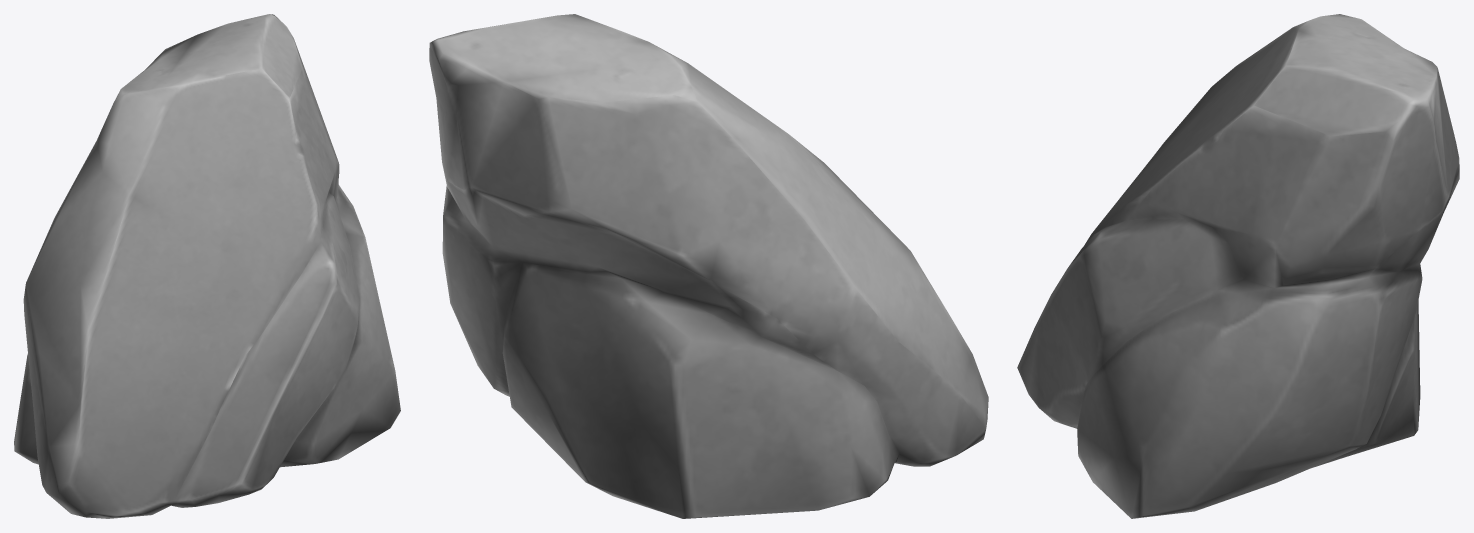
The model's file is SM_Rocks_04.obj.
3 views of the same model, side by side, from view 1: azimuth 30°, elevation 25°; view 2: azimuth 150°, elevation 25°; view 3: azimuth 270°, elevation 25° (orthographic). The views are drawn at different scales.
Parts seen in each view (by area): view 1: SM_Rocks_04; view 2: SM_Rocks_04; view 3: SM_Rocks_04.
Part boxes in pixels (<box>): SM_Rocks_04: <box>14,14,400,518</box>; SM_Rocks_04: <box>429,14,988,518</box>; SM_Rocks_04: <box>1017,14,1459,518</box>.
Size of the model in its own units: 1.9 by 1.7 by 1.59.
1 material, 1 textured.
